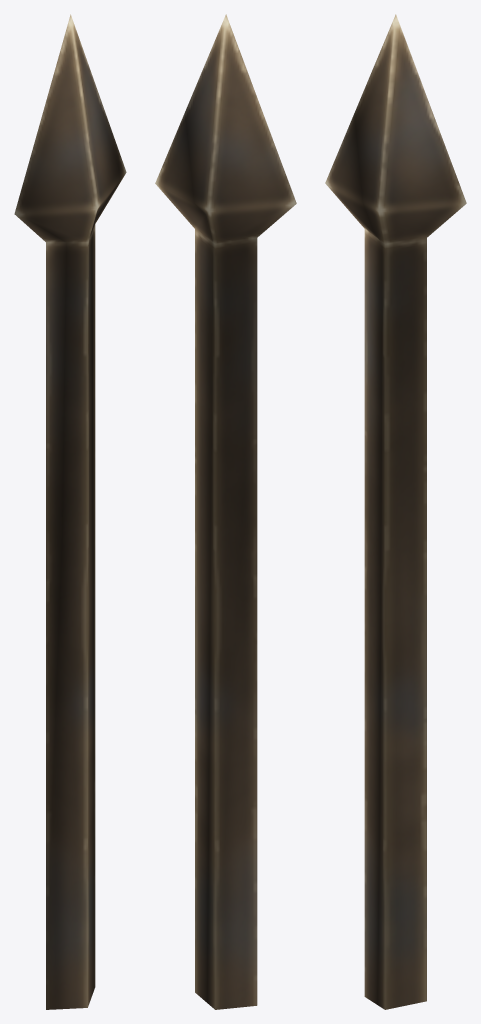
Rendered from Harrow02.FBX.
3 views of the same model, side by side, from view 1: azimuth 30°, elevation 25°; view 2: azimuth 150°, elevation 25°; view 3: azimuth 330°, elevation 25° (orthographic).
Parts seen in each view (by area): view 1: Harrow02; view 2: Harrow02; view 3: Harrow02.
Part boxes in pixels (x1,y1,x2,y2): Harrow02: (14, 14, 126, 1009); Harrow02: (155, 14, 296, 1009); Harrow02: (325, 14, 466, 1009).
Bounding box in the file's own units: 0.4217 × 0.2529 × 3.13.
